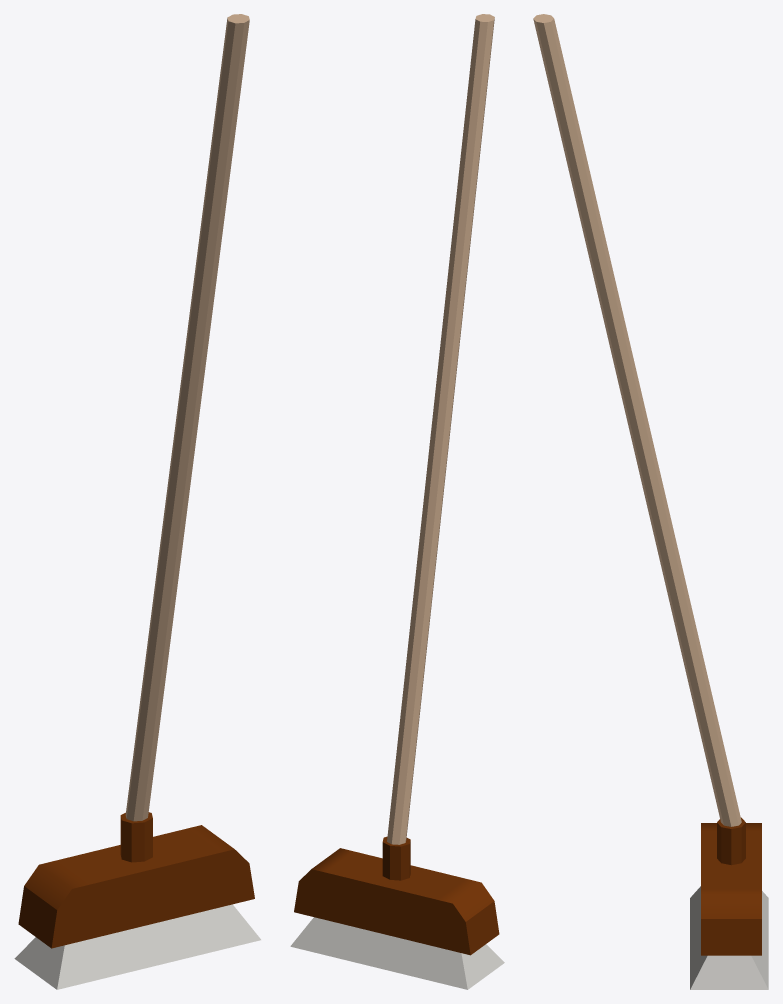
The model's file is escoba.fbx.
3 views of the same model, side by side, from view 1: azimuth 30°, elevation 25°; view 2: azimuth 150°, elevation 25°; view 3: azimuth 270°, elevation 25° (orthographic). The views are drawn at different scales.
Visible parts, largest first — view 1: escoba; view 2: escoba; view 3: escoba.
Boxes of the visible parts, x1=… form: escoba: x1=14, y1=14, x2=260, y2=989; escoba: x1=290, y1=14, x2=504, y2=989; escoba: x1=533, y1=14, x2=768, y2=989.
Bounding box in the file's own units: 3.92 × 18.39 × 4.24.
